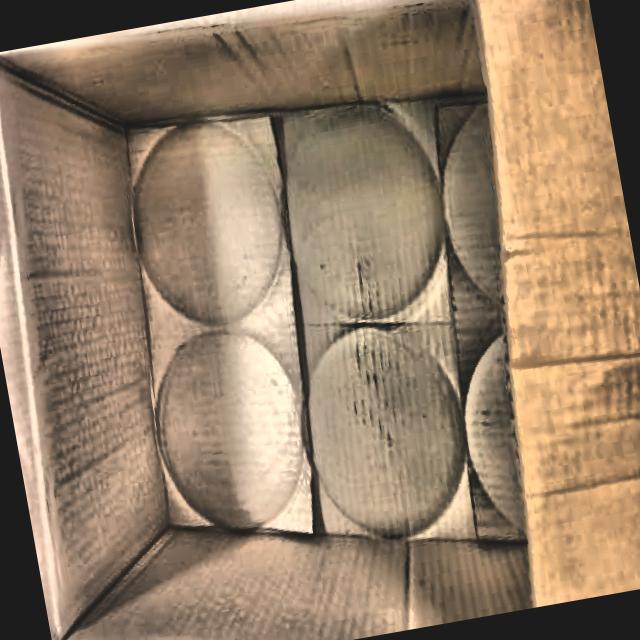cardboard: (0, 0, 640, 640), (418, 0, 640, 608)
